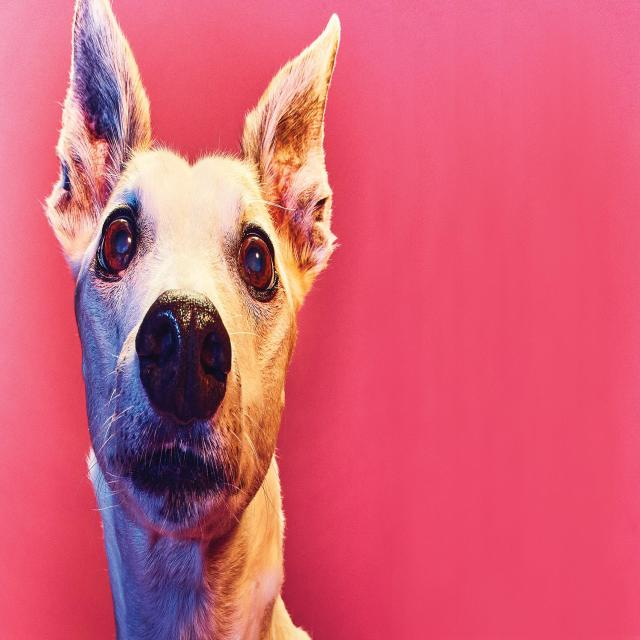dog: (43, 38, 332, 627)
